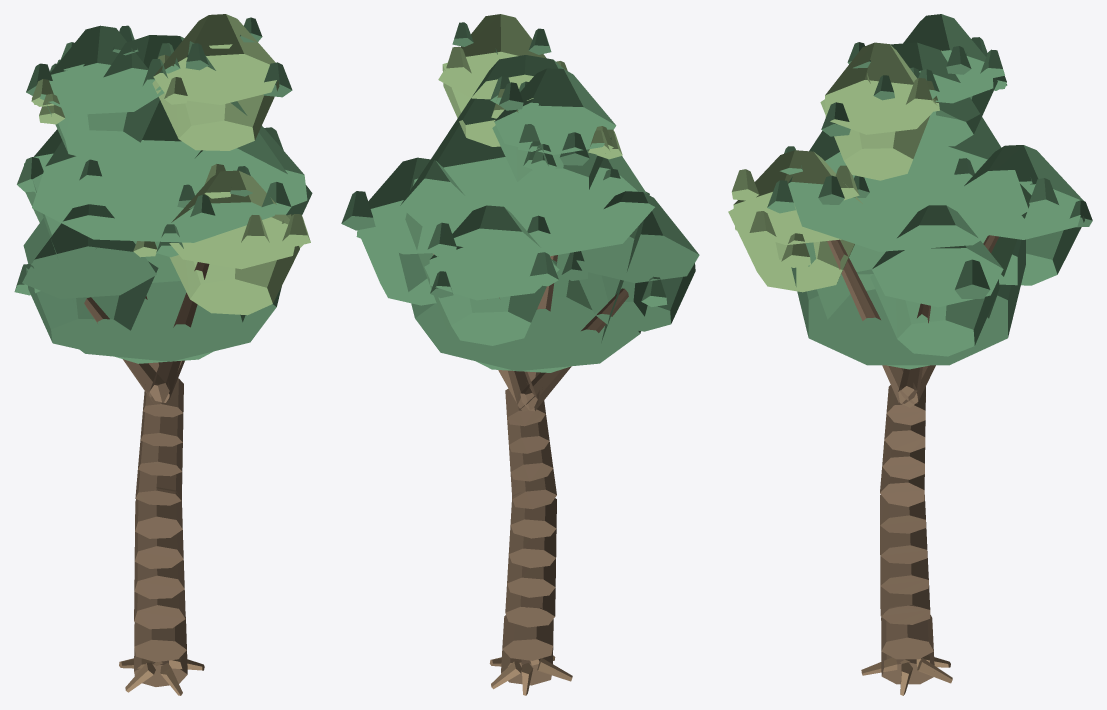
The model's file is maple.glb.
3 renders of one model, left to right at view 1: azimuth 30°, elevation 25°; view 2: azimuth 150°, elevation 25°; view 3: azimuth 270°, elevation 25°, orthographic. The views are drawn at different scales.
Parts seen in each view (by area): view 1: Crown#2, Crown.Under, Crown#4, Crown#12, Crown#14, Crown#8, Crown#3, Crown#7, Crown#11, Crown#13, Trunk, Trunk#5 (+20 smaller); view 2: Crown#2, Crown.Under, Crown#14, Crown#10, Crown#4, Crown#9, Crown#6, Crown#12, Crown#3, Crown#13, Crown, Crown#5 (+19 smaller); view 3: Crown#2, Crown.Under, Crown#6, Crown#12, Crown#5, Crown#10, Crown#8, Crown#7, Crown#11, Crown#14, Crown, Crown#9 (+22 smaller).
Boxes of the visible parts, x1=… form: Crown#2: x1=32, y1=35, x2=287, y2=242; Crown.Under: x1=23, y1=218, x2=281, y2=361; Crown#4: x1=22, y1=204, x2=156, y2=298; Crown#12: x1=153, y1=14, x2=276, y2=104; Crown#14: x1=40, y1=25, x2=164, y2=114; Crown#8: x1=169, y1=170, x2=294, y2=269; Crown#3: x1=25, y1=261, x2=158, y2=349; Crown#7: x1=169, y1=246, x2=299, y2=315; Crown#11: x1=152, y1=80, x2=279, y2=150; Crown#13: x1=46, y1=97, x2=159, y2=160; Trunk: x1=134, y1=617, x2=186, y2=662; Trunk#5: x1=135, y1=487, x2=182, y2=538; Crown#2: x1=400, y1=55, x2=654, y2=258; Crown.Under: x1=399, y1=253, x2=648, y2=371; Crown#14: x1=494, y1=68, x2=616, y2=154; Crown#10: x1=429, y1=205, x2=559, y2=300; Crown#4: x1=576, y1=191, x2=699, y2=283; Crown#9: x1=424, y1=259, x2=557, y2=345; Crown#6: x1=356, y1=157, x2=464, y2=254; Crown#12: x1=438, y1=14, x2=546, y2=100; Crown#3: x1=567, y1=253, x2=695, y2=331; Crown#13: x1=492, y1=125, x2=611, y2=198; Crown: x1=405, y1=178, x2=649, y2=372; Crown#5: x1=361, y1=238, x2=436, y2=305; Crown#2: x1=788, y1=42, x2=1028, y2=251; Crown.Under: x1=791, y1=239, x2=1025, y2=365; Crown#6: x1=872, y1=205, x2=1003, y2=307; Crown#12: x1=825, y1=42, x2=937, y2=134; Crown#5: x1=870, y1=274, x2=999, y2=356; Crown#10: x1=964, y1=145, x2=1083, y2=239; Crown#8: x1=733, y1=150, x2=862, y2=244; Crown#7: x1=728, y1=209, x2=854, y2=292; Crown#11: x1=820, y1=98, x2=935, y2=180; Crown#14: x1=903, y1=14, x2=993, y2=103; Crown: x1=805, y1=184, x2=1031, y2=369; Crown#9: x1=980, y1=216, x2=1084, y2=285.
Bounding box in the file's own units: 6.5 × 13.06 × 6.67.
